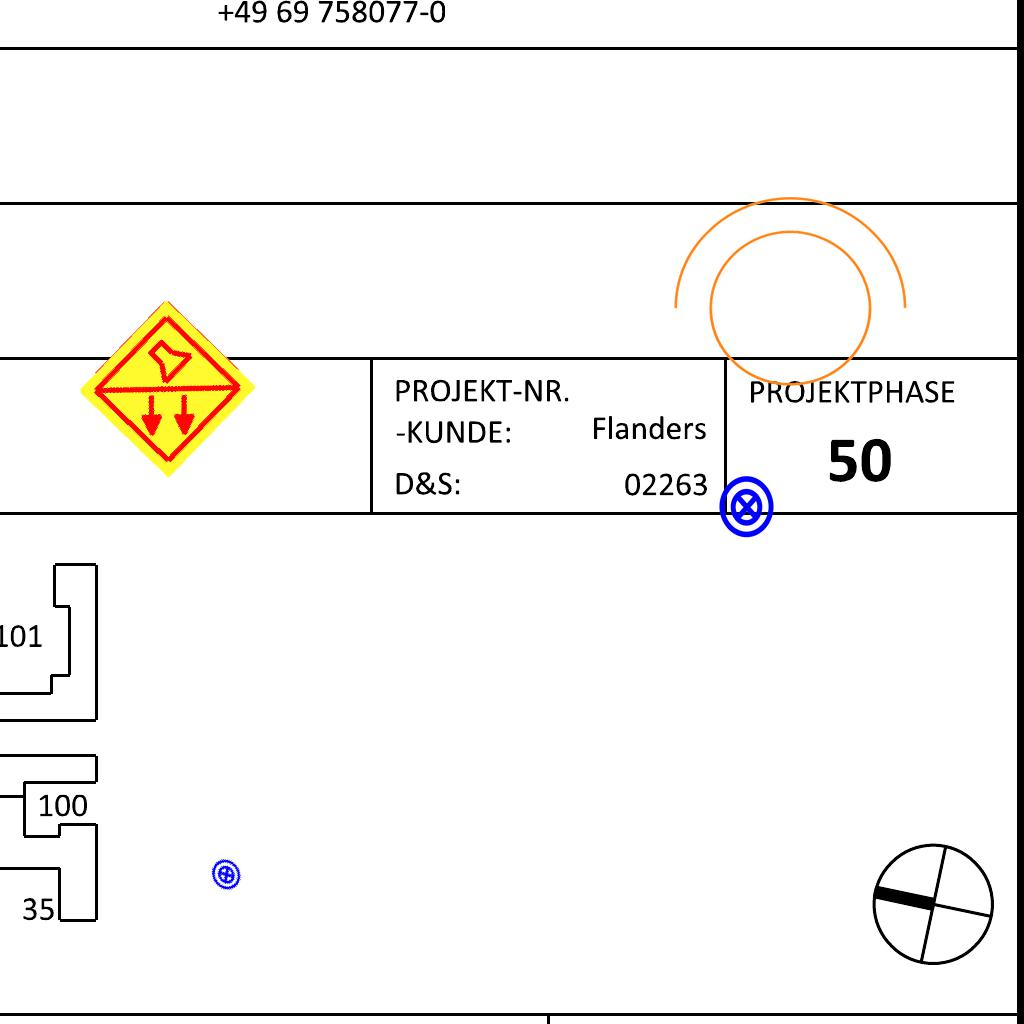OKW_Multisensormelder_(Kombination_optischer_Rauch-Kahlenmonoxid_Waerme-Melder): (73, 295, 261, 483)
Scheinwerfer_fuer_Alarmbeleuchtung: (652, 186, 916, 411)
Taster_beleuchtet: (714, 474, 780, 540), (203, 851, 250, 898)
